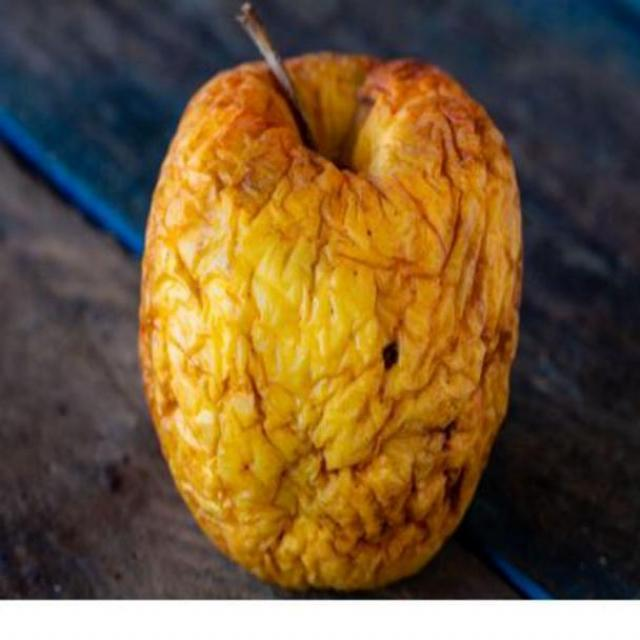ROT: (124, 10, 538, 564)
